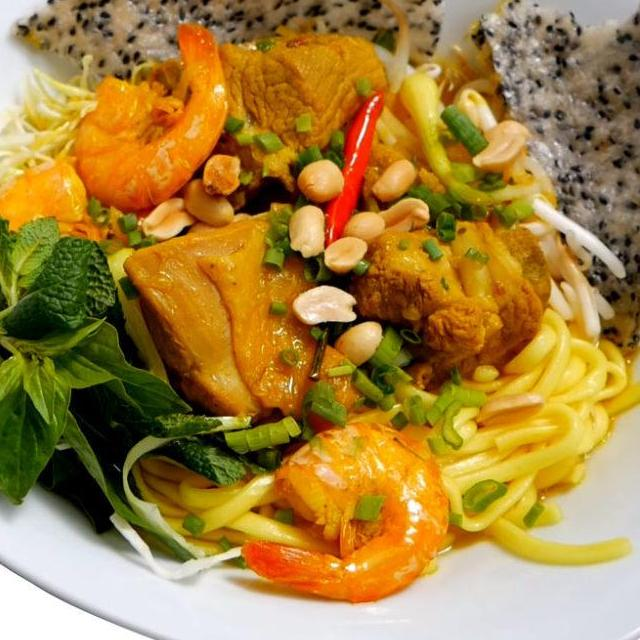banh da: (466, 0, 640, 365), (5, 0, 451, 86)
mi: (355, 304, 640, 569), (116, 442, 350, 574)
thit ga: (120, 198, 325, 430), (348, 213, 553, 400), (202, 27, 393, 198)
tom: (235, 413, 454, 608), (66, 18, 233, 216), (0, 151, 101, 261)
